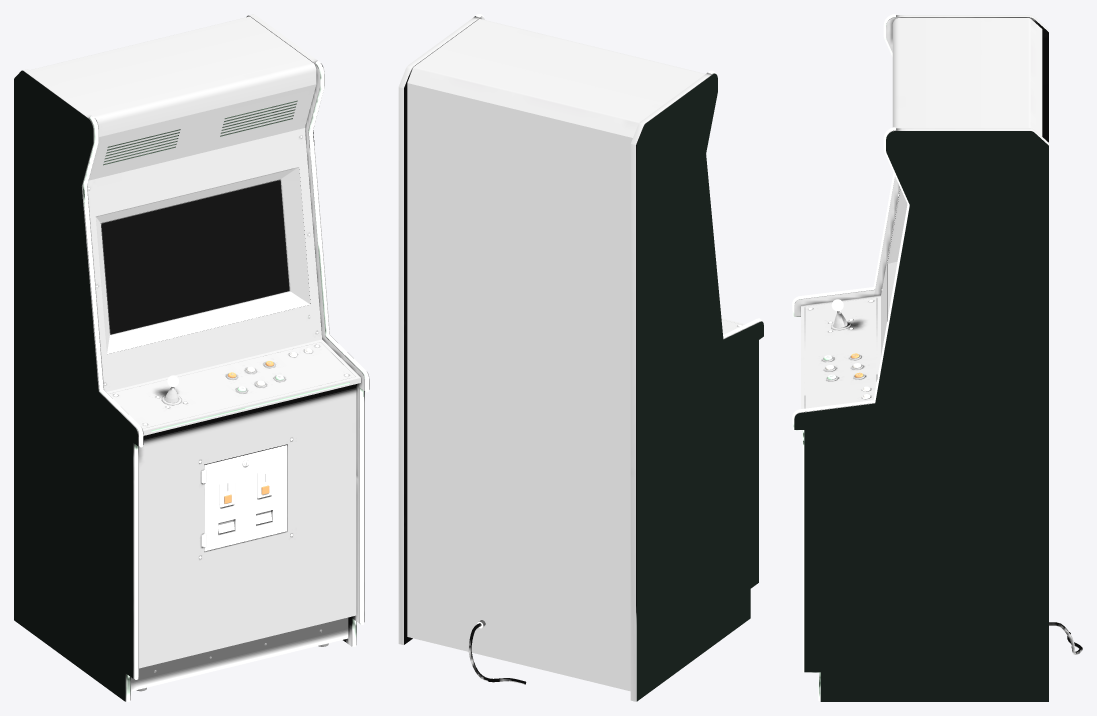
File: cab-deductidle-v1.glb
3 views of the same model, side by side, from view 1: azimuth 30°, elevation 25°; view 2: azimuth 150°, elevation 25°; view 3: azimuth 270°, elevation 25° (orthographic). The views are drawn at different scales.
Visible parts, largest first — view 1: body, side_art_l, screen, glass, trim, metal; view 2: body, side_art_l; view 3: side_art_r, body, trim.
Part boxes in pixels (x1,y1,x2,y2): body: (22,14,369,701); side_art_l: (14,70,137,701); screen: (101,180,289,333); glass: (102,181,289,334); trim: (83,61,368,701); metal: (88,135,348,691); body: (398,16,760,701); side_art_l: (636,73,763,701); side_art_r: (794,131,1048,701); body: (794,15,1048,418); trim: (792,14,909,701).
Bounding box in the file's own units: 0.843 × 1.94 × 0.8912.
24 materials, 9 textured.
